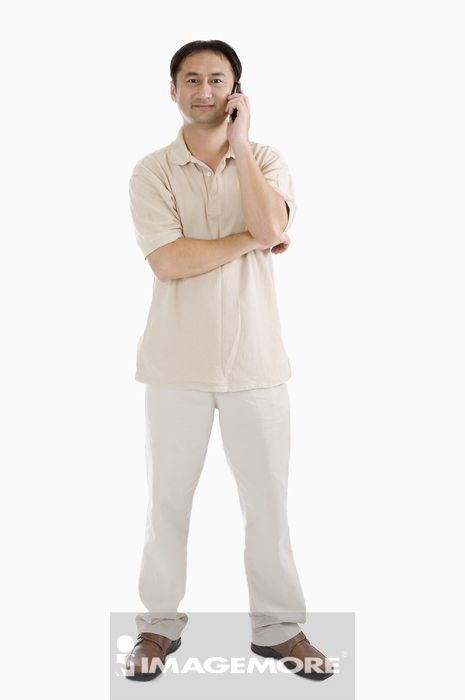talk: (179, 66, 252, 147)
